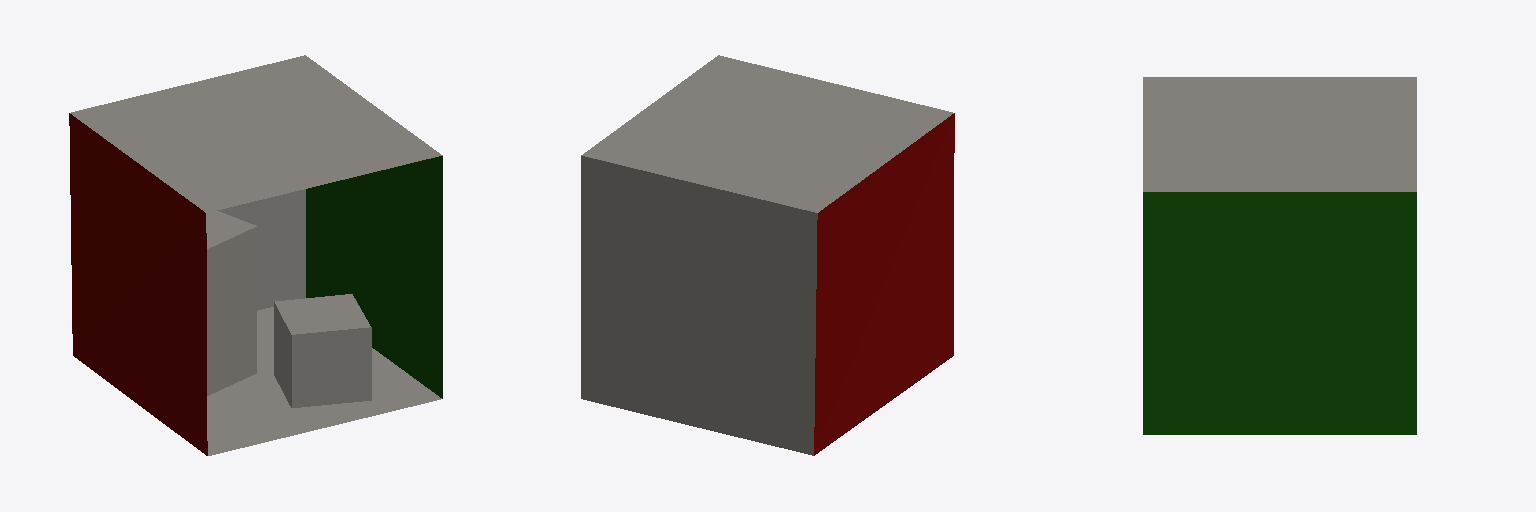
Rendered from CornellBox-Original.obj.
The picture shows the model from 3 angles: view 1: azimuth 30°, elevation 25°; view 2: azimuth 150°, elevation 25°; view 3: azimuth 270°, elevation 25°; orthographic projection.
Parts seen in each view (by area): view 1: leftWall, ceiling, rightWall, floor, shortBox, backWall; view 2: backWall, leftWall, ceiling; view 3: rightWall, ceiling.
Boxes of the visible parts, x1=… form: leftWall: x1=69, y1=113, x2=371, y2=455; ceiling: x1=70, y1=55, x2=442, y2=212; rightWall: x1=306, y1=156, x2=442, y2=398; floor: x1=207, y1=307, x2=441, y2=455; shortBox: x1=206, y1=211, x2=256, y2=395; backWall: x1=217, y1=189, x2=305, y2=310; backWall: x1=581, y1=156, x2=817, y2=455; leftWall: x1=814, y1=113, x2=954, y2=455; ceiling: x1=581, y1=55, x2=953, y2=212; rightWall: x1=1143, y1=192, x2=1416, y2=434; ceiling: x1=1143, y1=77, x2=1416, y2=191.
Size of the model in its own units: 2.02 by 1.99 by 2.03.